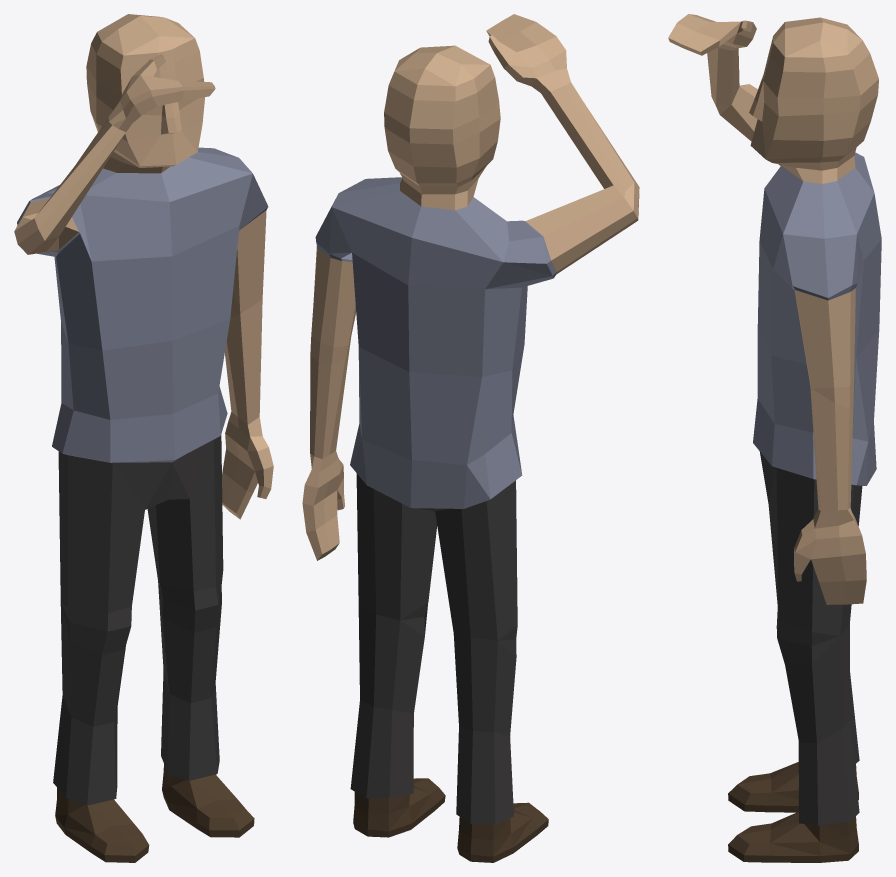
File: Male_Standing_CoveringEyes.glb
The picture shows the model from 3 angles, left to right: view 1: azimuth 30°, elevation 25°; view 2: azimuth 150°, elevation 25°; view 3: azimuth 270°, elevation 25°; orthographic projection. The views are drawn at different scales.
Parts seen in each view (by area): view 1: Male_Standing_CoveringEyes; view 2: Male_Standing_CoveringEyes; view 3: Male_Standing_CoveringEyes.
Part boxes in pixels (bbox=[...]): Male_Standing_CoveringEyes: bbox=[14, 14, 273, 862]; Male_Standing_CoveringEyes: bbox=[302, 14, 639, 862]; Male_Standing_CoveringEyes: bbox=[668, 14, 881, 862].
Bounding box in the file's own units: 1.44 × 3.85 × 0.9277.
